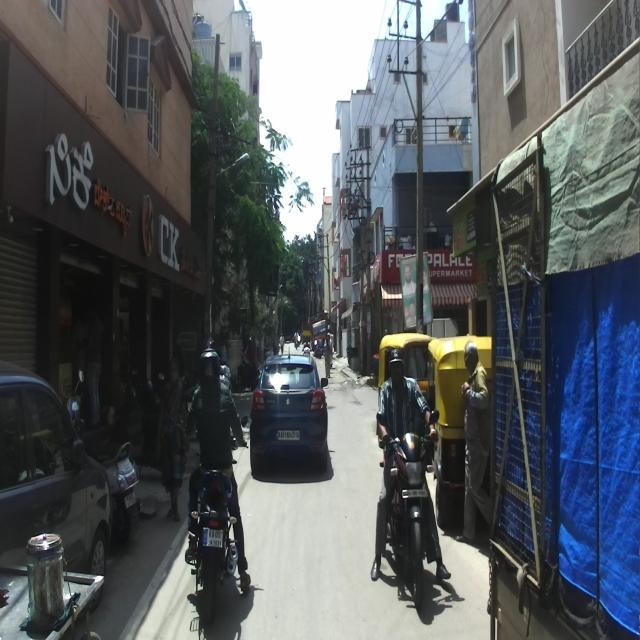autorickshaw: (424, 331, 496, 532), (376, 332, 439, 457)
car: (0, 352, 114, 616), (248, 345, 329, 479)
motorcycle: (182, 412, 253, 626), (373, 408, 442, 613)
scooter: (66, 366, 140, 542)
truck: (486, 37, 638, 638)
